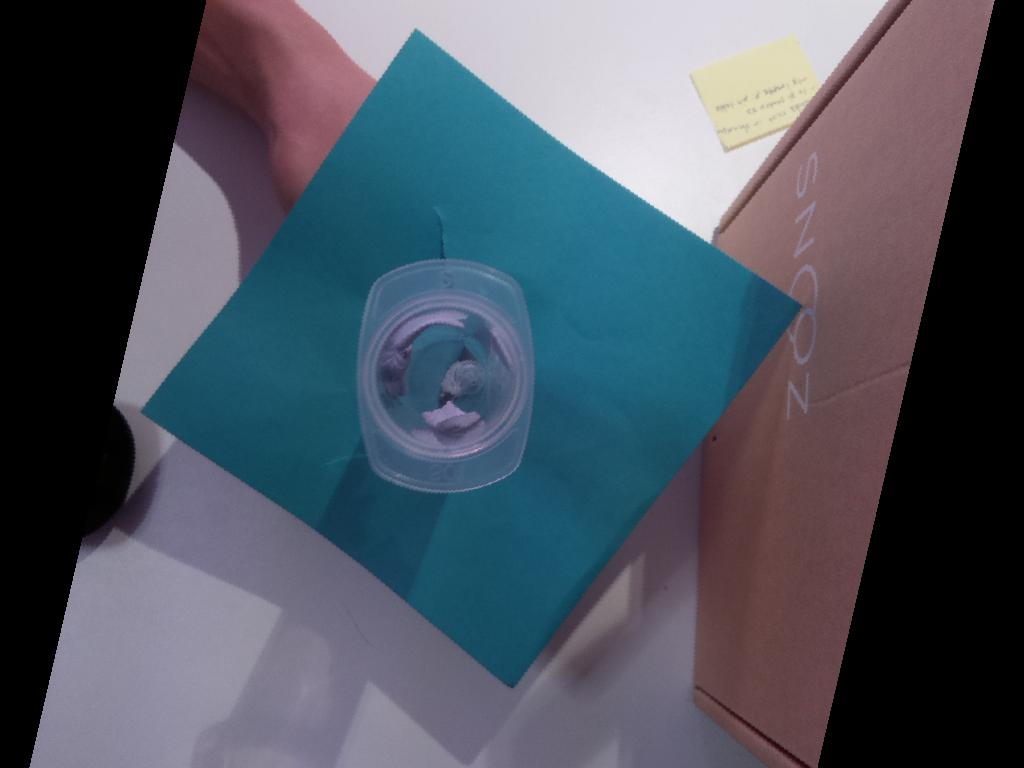dirty: (355, 256, 534, 495)
